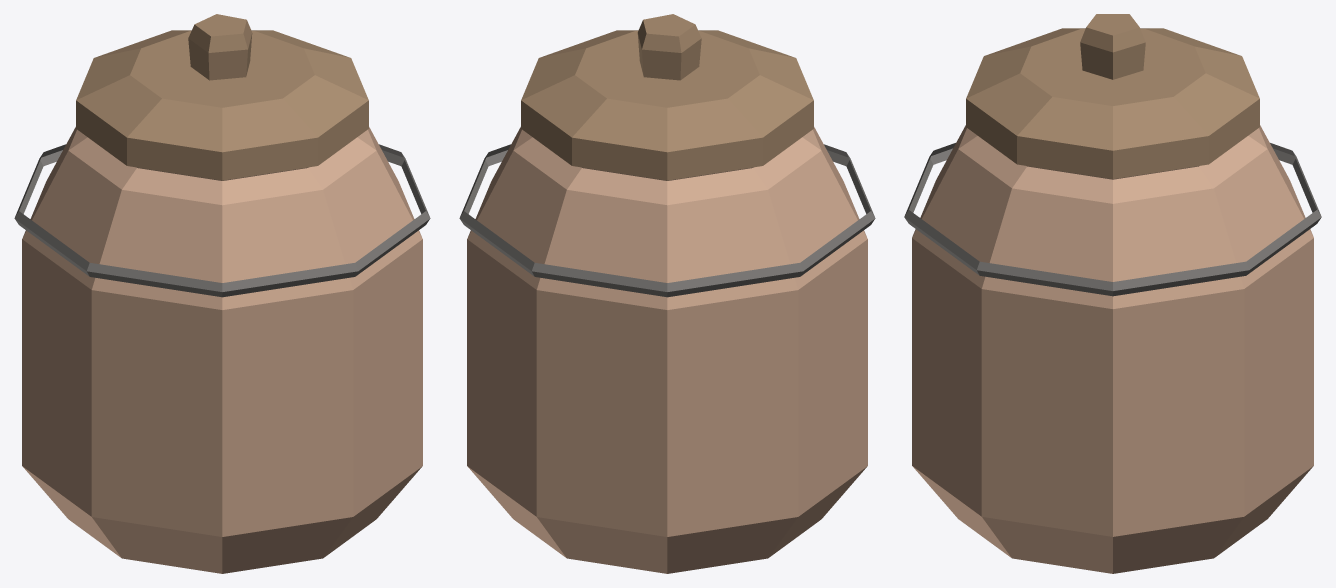
The model's file is prop-jar-crock.fbx.
3 views of the same model, side by side, from view 1: azimuth 30°, elevation 25°; view 2: azimuth 150°, elevation 25°; view 3: azimuth 270°, elevation 25° (orthographic).
Parts seen in each view (by area): view 1: prop-jar-crock; view 2: prop-jar-crock; view 3: prop-jar-crock.
Part boxes in pixels (x1=…): prop-jar-crock: x1=14, y1=14, x2=430, y2=573; prop-jar-crock: x1=459, y1=14, x2=875, y2=573; prop-jar-crock: x1=904, y1=14, x2=1321, y2=573.
Bounding box in the file's own units: 0.2619 × 0.34 × 0.2659.
